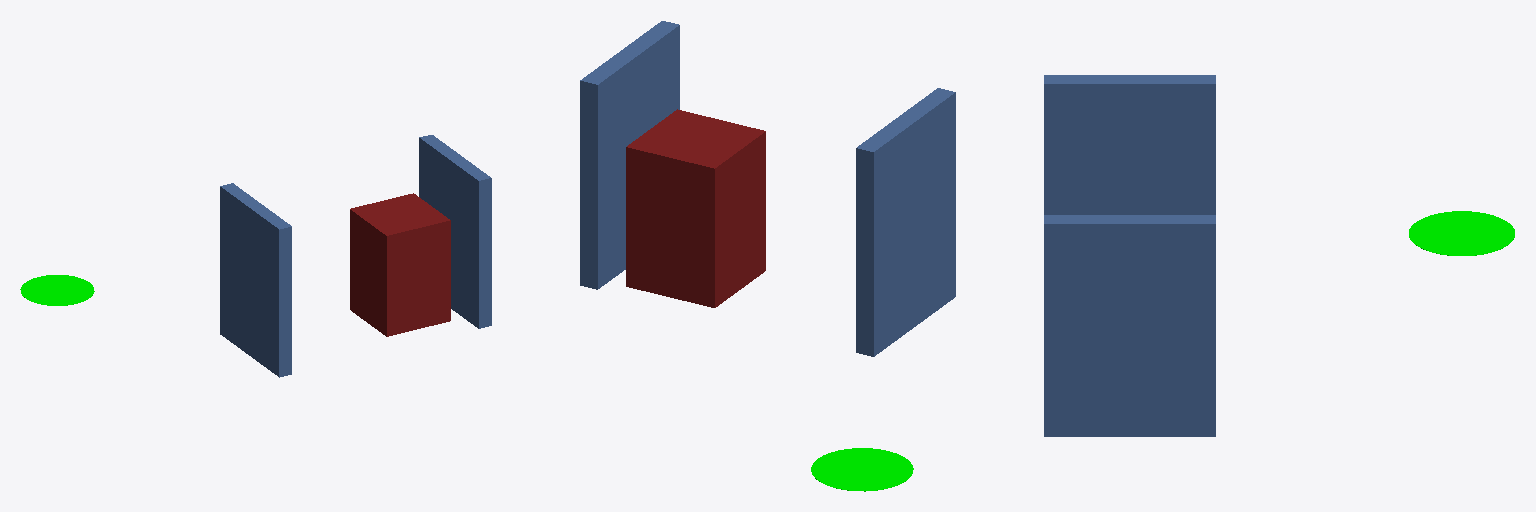
The robot description file, URDF, robot "room2":
<robot name="room2">
    <link name="base_link"/>

    <link name="room">
      <visual>
        <geometry>
          <mesh filename="[local-path]/rb_ws/robowflex/robowflex_dart/include/io/envs/room3/meshes/room.dae" scale=" 0.4 0.4 0.3"/>
        </geometry>
        <origin rpy="0 0 0" xyz="0 0 0"/>
      <material name="">
        <color rgba="0.94901960784 0.94901960784 0.94901960784 1"/>
      </material>
      </visual>

      <collision>
        <geometry>
          <mesh filename="[local-path]/rb_ws/robowflex/robowflex_dart/include/io/envs/room3/meshes/room.dae" scale=" 0.4 0.4 0.3"/>
        </geometry>
        <origin rpy="0 0 0" xyz="0 0 0"/>       
       </collision>
    </link>


     <link name="link_0_joint_0">
      <visual>
        <geometry>
          <box size="0.1 0.8 1.1"/>
        </geometry>
        <origin rpy="0 0 0" xyz="0.0 0.4 0"/>
        <material name="">
          <color rgba="0.349019 0.470588 0.650980 1.0"/>
      </material>
      </visual>
      <collision>
        <geometry>
          <box size="0.1 0.8 1.1"/>
        </geometry>
        <origin rpy="0 0 0" xyz="0.0 0.4 0"/>     
       </collision>
    </link>


  <link name="link_1_joint_0">
      <visual>
        <geometry>
          <box size="0.1 0.8 1.1"/>
        </geometry>
        <origin rpy="0 0 0" xyz="0.0 0.4 0"/>
        <material name="">
          <color rgba="0.349019 0.470588 0.650980 1.0"/>
      </material>
      </visual>
      <collision>
        <geometry>
          <box size="0.1 0.8 1.1"/>
        </geometry>
        <origin rpy="0 0 0" xyz="0.0 0.4 0"/>     
       </collision>
    </link>


    <link name="link_2_joint_0">
      <visual>
        <geometry>
          <box size="0.5 0.5 0.75"/>
        </geometry>
        <origin rpy="0 0 0" xyz="0 0 0"/>
          <material name="">
          <color rgba="0.541176 0.156862 0.156862 1.0"/>
      </material>
      </visual>
      <collision>
        <geometry>
          <box size="0.5 0.5 0.75"/>
        </geometry>
        <origin rpy="0 0 0" xyz="0 0 0"/>      
       </collision>
    </link>
    

<link name="cube1_y_axis"/>


<joint name="room_j" type="fixed">
    <origin rpy="0 0 -1.57" xyz="0 0 0.0"/>
    <parent link="base_link"/>
    <child link="room"/>
    <axis xyz="0 1 0"/>
  </joint>

   <joint name="link_0_joint_0" type="revolute">
      <origin rpy="0 0 0" xyz="1.5 -1.25 0.55"/>
      <parent link="base_link"/>
      <child link="link_0_joint_0"/>
      <axis xyz="0 0 1"/>
      <limit lower="0" upper="1.57" effort="0.05" velocity="1.57"/>
  </joint>

   <joint name="link_1_joint_0" type="revolute">
      <origin rpy="0 0 0" xyz="-0.05 -1.25 0.55"/>
      <parent link="base_link"/>
      <child link="link_1_joint_0"/>
      <axis xyz="0 0 1"/>
      <limit lower="0" upper="1.57" effort="0.05" velocity="1.57"/>
  </joint>


  <joint name="link_2_joint_0" type="prismatic">
      <origin rpy="0 0 0" xyz="1.1 -0.8 0.375"/>
      <parent link="base_link"/>
      <child link="cube1_y_axis"/>
      <axis xyz="0 1 0"/>
      <limit lower="-1.40" upper="2.00" effort="0.05" velocity="1.57"/>
  </joint>


  <joint name="link_2_joint_1" type="prismatic">
      <origin rpy="0 0 0" xyz="0 0 0"/>
      <parent link="cube1_y_axis"/>
      <child link="link_2_joint_0"/>
      <axis xyz="1 0 0"/>
      <limit lower="-1.5" upper="3.00" effort="0.05" velocity="1.57"/>
  </joint>

  <link name="goal">
  <visual>
         <origin xyz="0 0 0" rpy="0 0 0"/>
        <geometry>
          <cylinder radius="0.25" length="0.001"/>
        </geometry>
        <material name="">
          <color rgba="0 1 0 1.0"/>
        </material>
      </visual>
</link>

<joint name="goal" type="fixed">
  <origin rpy="0 0 0" xyz="-0.7 0.7 0"/>
  <parent link="base_link"/>
    <child link="goal"/>
</joint>



</robot>

--- What the picture shows (computed from the rendered views, not written in the file) ---
3 views of the same robot in one strip: view 1: azimuth 30°, elevation 25°; view 2: azimuth 150°, elevation 25°; view 3: azimuth 270°, elevation 25° (orthographic).
Model room2 with 7 links and 6 joints (2 revolute, 2 prismatic, 2 fixed), rooted at base_link, posed all joints at 0.
Visible links, largest first — view 1: link_2_joint_0, link_1_joint_0, link_0_joint_0, goal; view 2: link_2_joint_0, link_1_joint_0, link_0_joint_0, goal; view 3: link_0_joint_0, link_1_joint_0, goal.
Link boxes in pixels (left/top/right/bottom): link_2_joint_0: left=350, top=193, right=450, bottom=336; link_1_joint_0: left=220, top=183, right=291, bottom=377; link_0_joint_0: left=419, top=135, right=491, bottom=328; goal: left=20, top=275, right=94, bottom=305; link_2_joint_0: left=626, top=109, right=765, bottom=307; link_1_joint_0: left=856, top=88, right=955, bottom=356; link_0_joint_0: left=580, top=21, right=679, bottom=289; goal: left=811, top=448, right=913, bottom=491; link_0_joint_0: left=1044, top=215, right=1215, bottom=436; link_1_joint_0: left=1044, top=75, right=1215, bottom=214; goal: left=1409, top=211, right=1514, bottom=255.
Bounding box of the posed robot: 2.5 × 2.2 × 1.1 m (x, y, z).
Geometry: only primitive shapes (box / cylinder / sphere) drawn; not drawn: 1 mesh visual (reference in a form the renderer does not follow).
